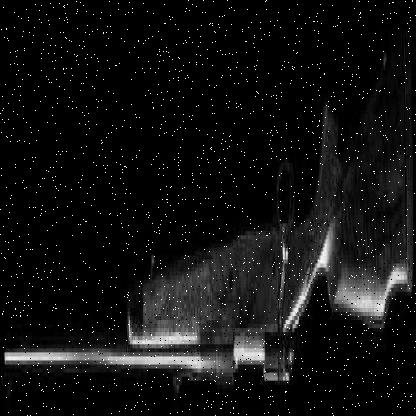rifle: (1, 3, 416, 412)
